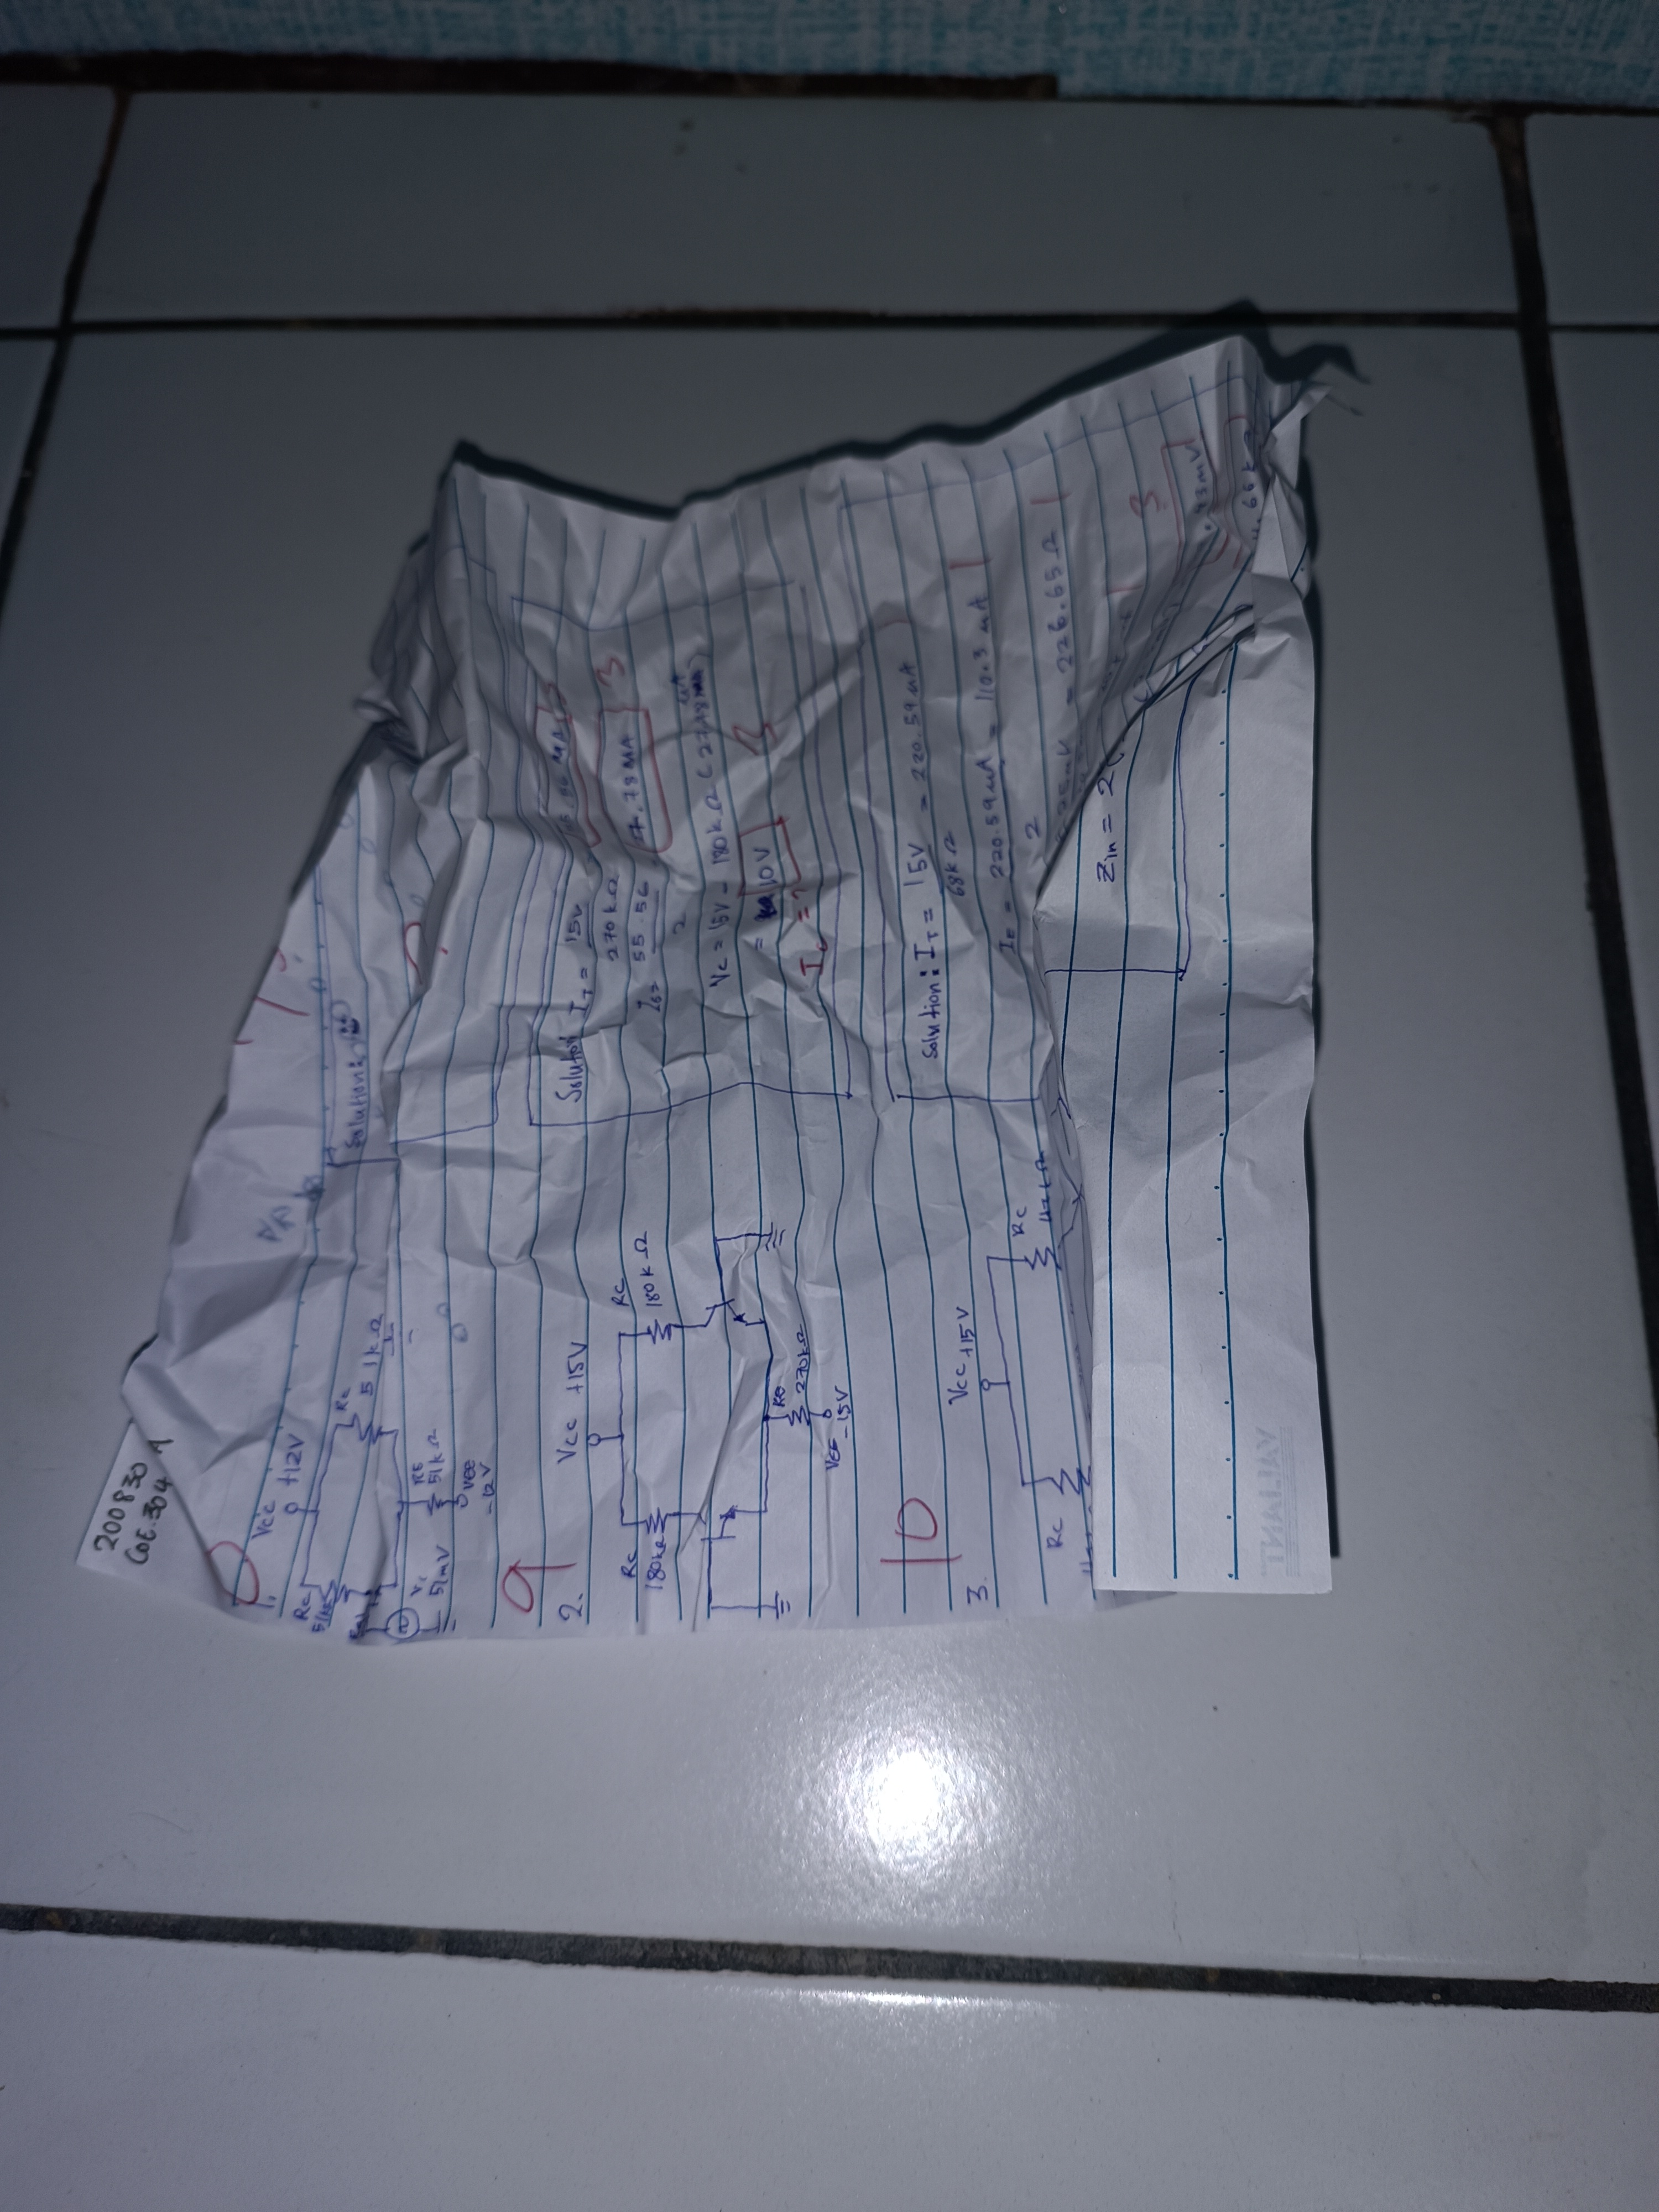Paper: (192, 399, 1408, 1644)
